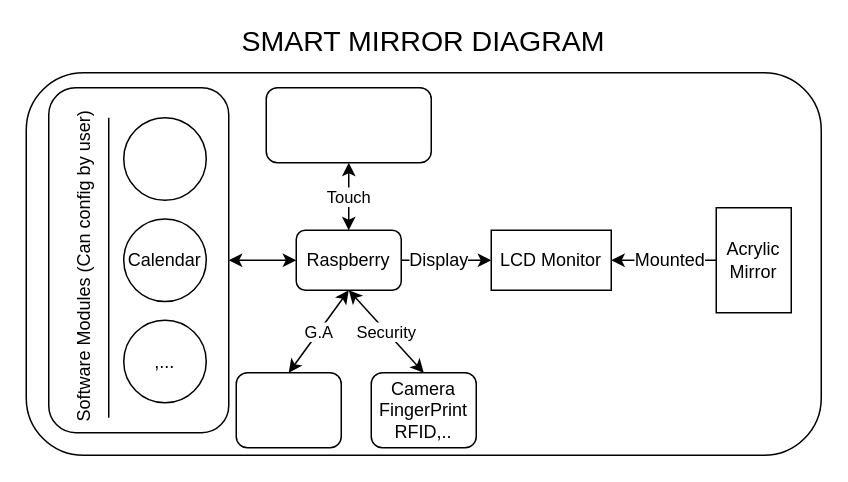
The diagram is 848 pixels wide and 482 high, and some of its shapes have lost their labels. The shapes that lost their labels are listed below. From the top down, each one's centre as x and y in pixels, then its label:
At (x=348, y=124): "TouchScreen Camera&Sensor ,....".
At (x=164, y=158): "Weather".
At (x=288, y=409): "Microphone Speaker".
